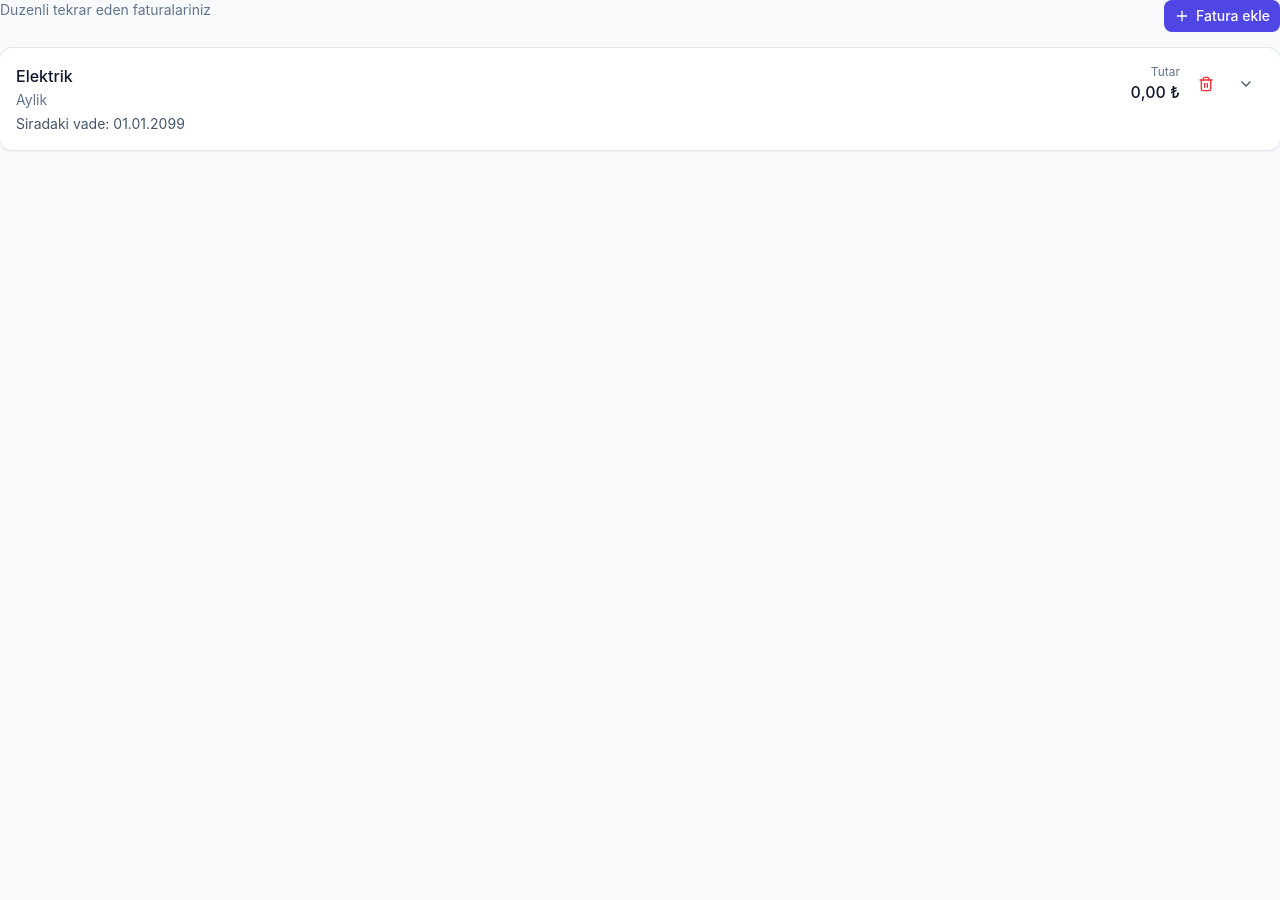
ZamanlanmisListe - tutarla onayla modali › gecersiz degerle kapatilip yeniden acilinca kilit takili kalmaz
The width and height of the screenshot is (1280, 900).
Check: the text "Elektrik" is shown, box [16,64,73,88]
Step 1. Click the button named "Vadeleri goster" → (1246, 84), box [1228,70,1264,98]
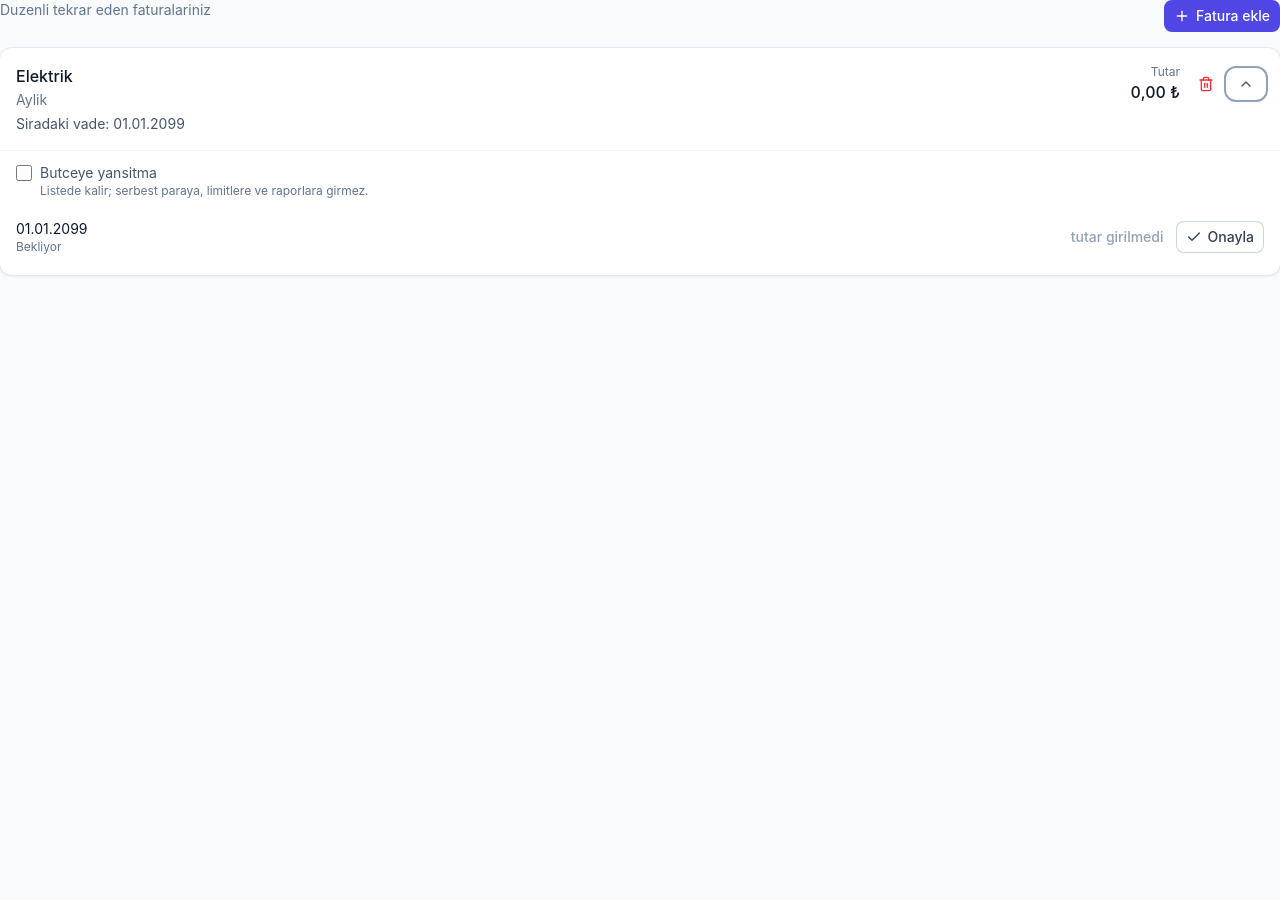
Step 2. Click the button "Onayla" → (1220, 237), box [1176,221,1264,253]
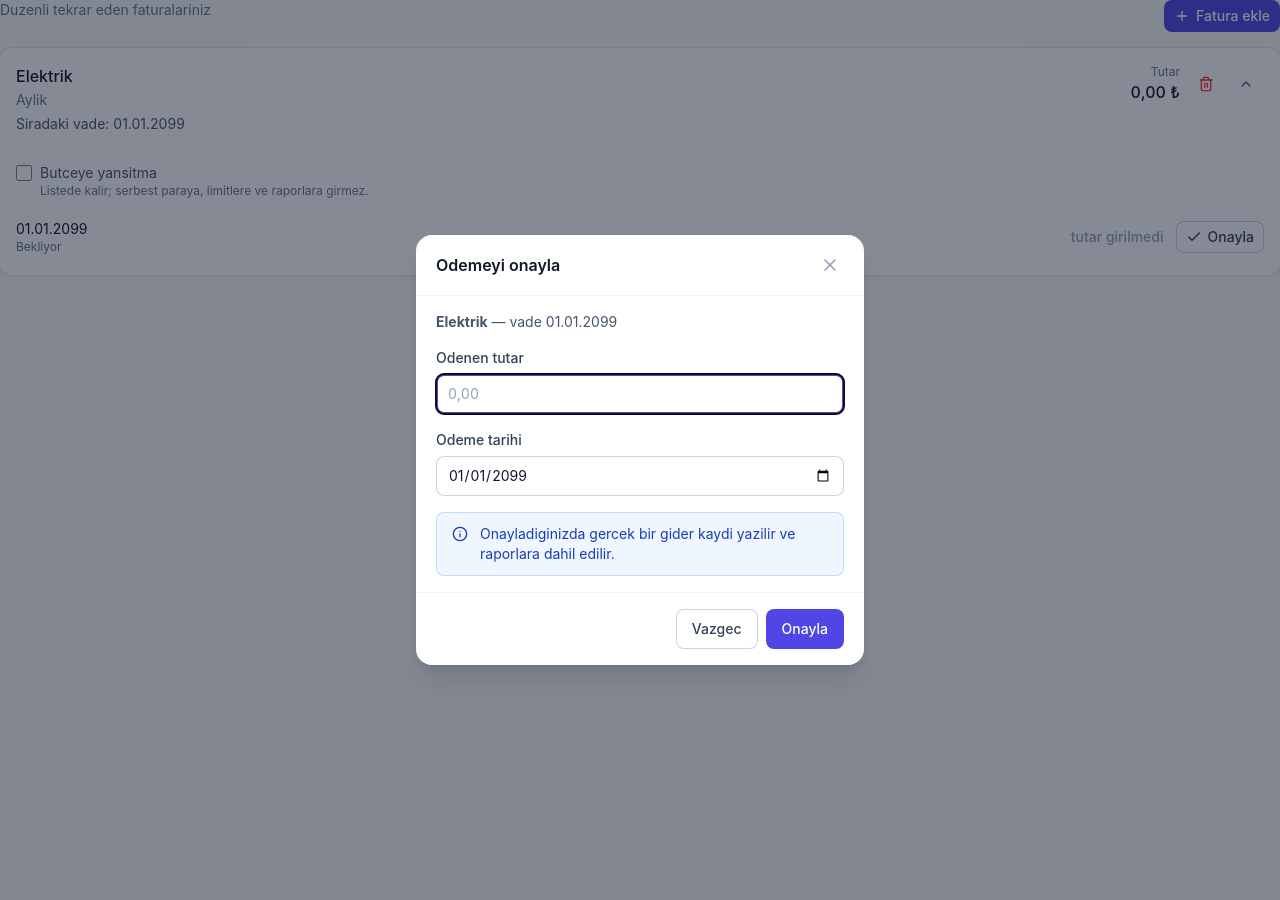
Step 3. Type "1,005" into the field labelled "Odenen tutar" → (640, 394), box [436,374,844,414]
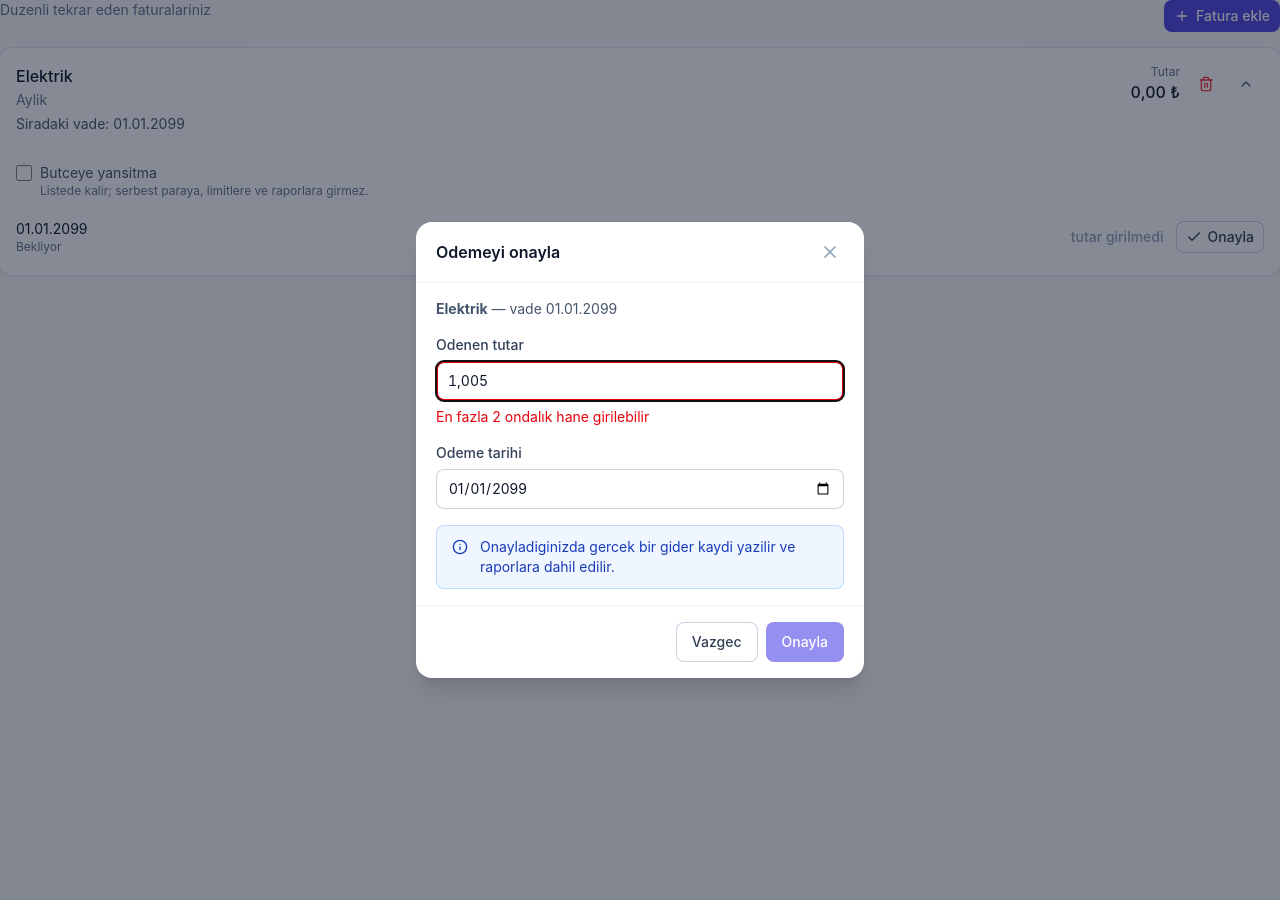
Step 4. Click the button "Vazgec" → (717, 642), box [676,622,758,662]
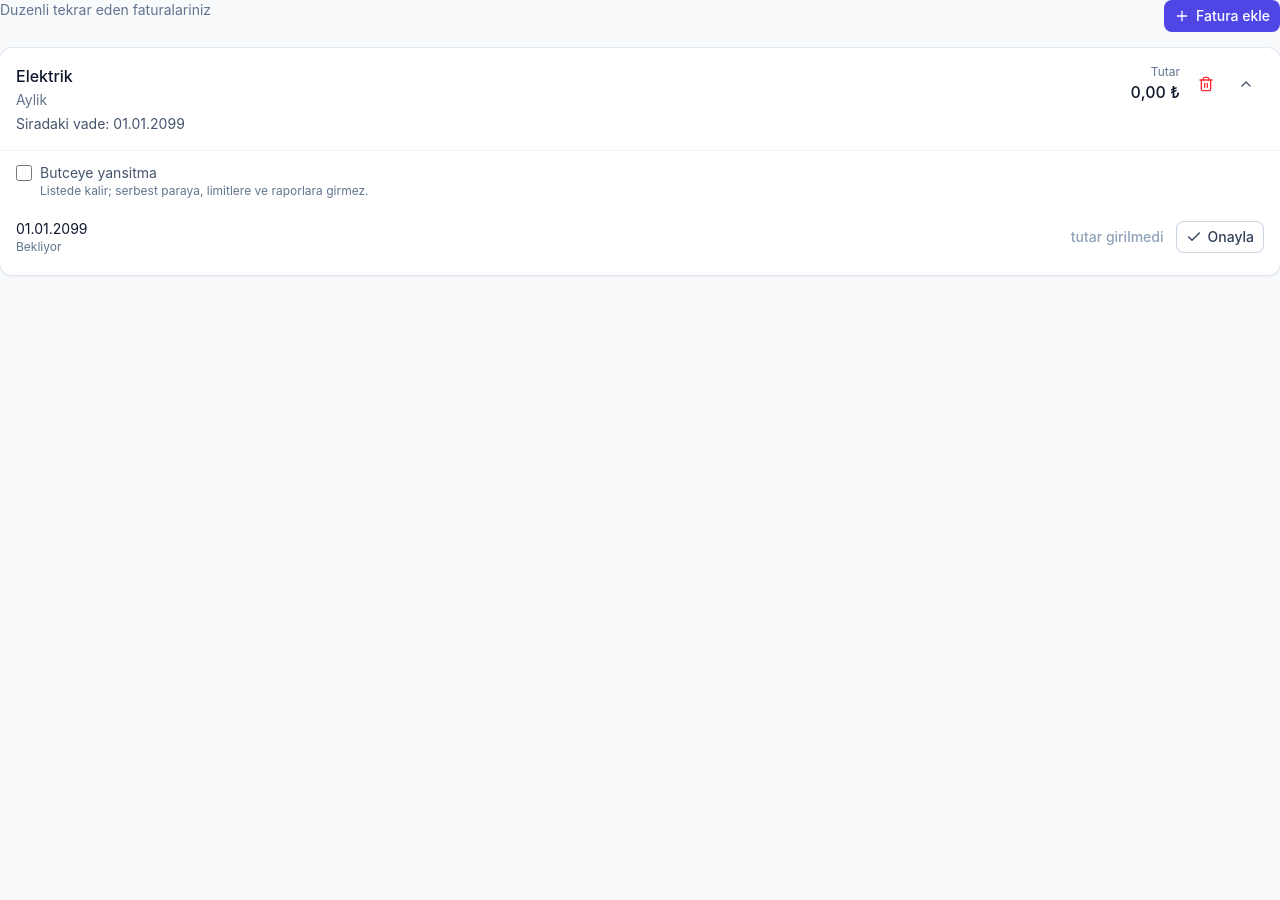
Check: the dialog is gone
Step 5. Click the button "Onayla" → (1220, 237), box [1176,221,1264,253]
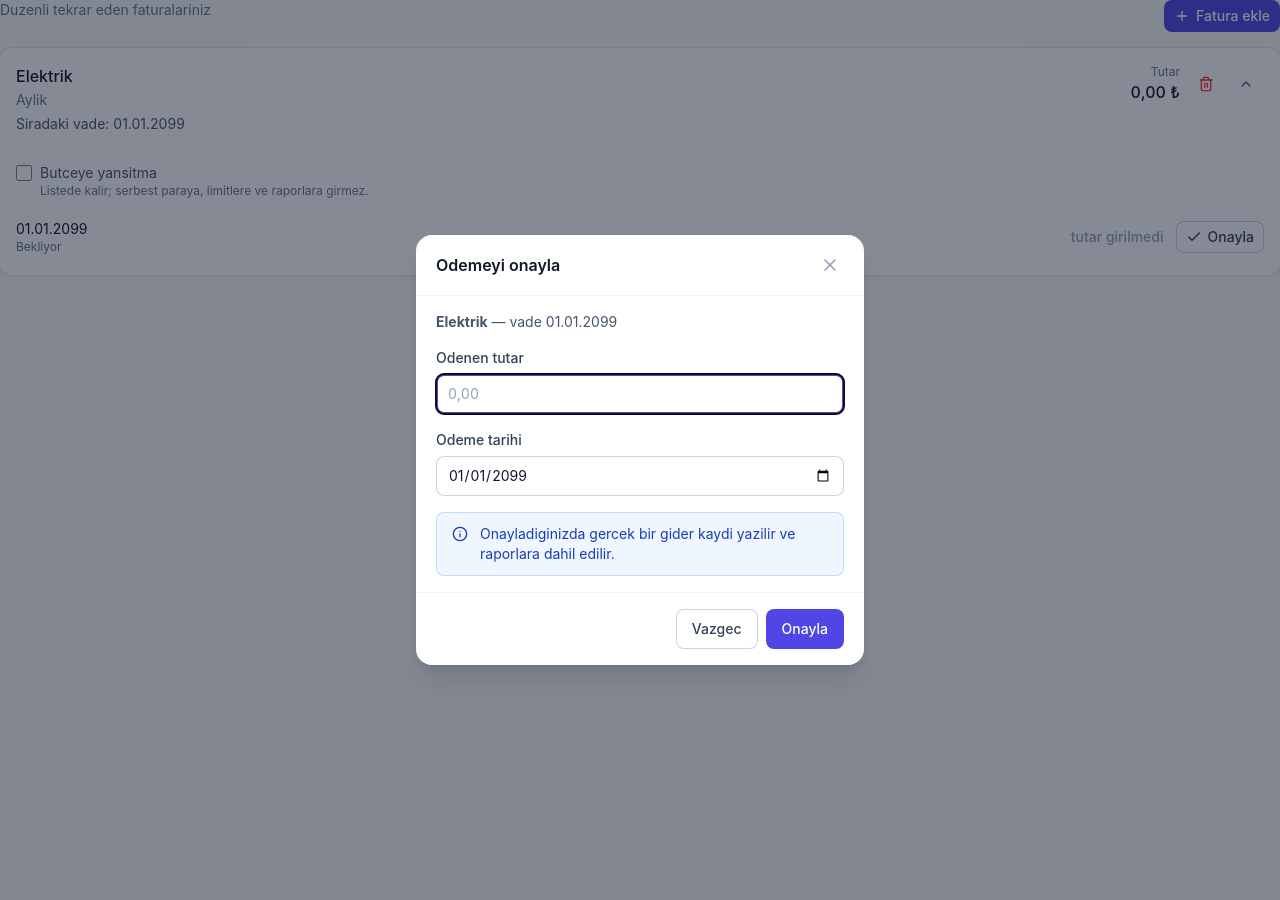
Check: the field labelled "Odenen tutar" is empty, box [436,374,844,414]
Check: the button "Onayla" is enabled, box [766,609,844,649]
